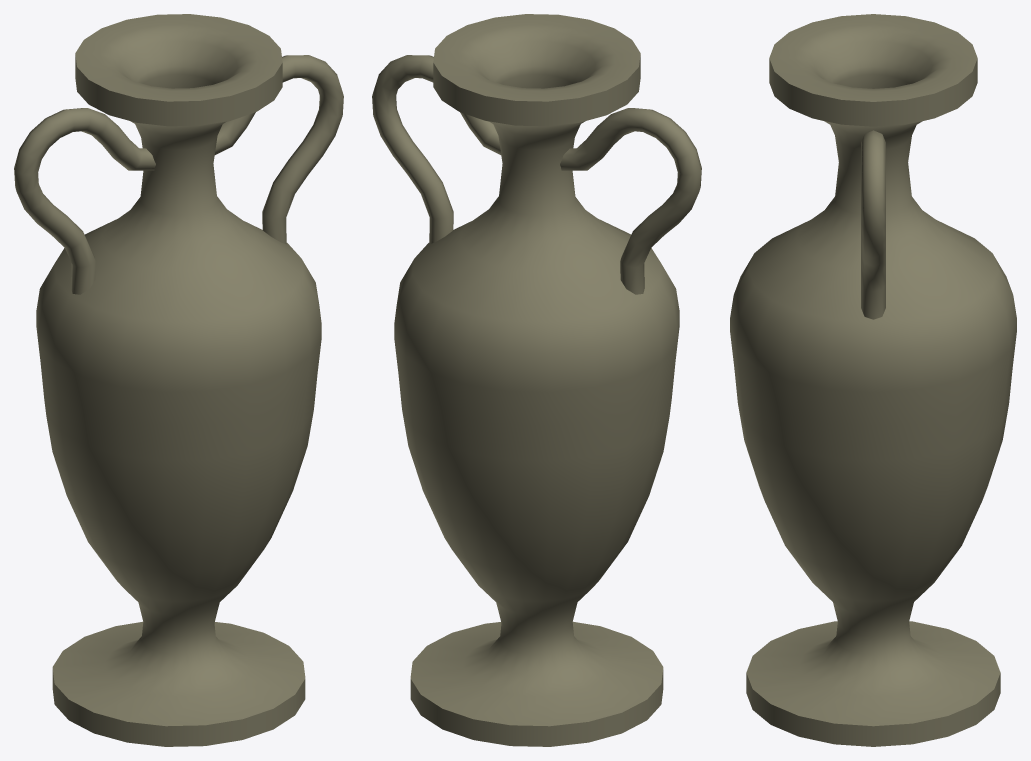
Rendered from WM_TallPot.fbx.
3 views of the same model, side by side, from view 1: azimuth 30°, elevation 25°; view 2: azimuth 150°, elevation 25°; view 3: azimuth 270°, elevation 25° (orthographic).
Parts seen in each view (by area): view 1: Cylinder.017; view 2: Cylinder.017; view 3: Cylinder.017.
Boxes of the visible parts, x1,y1,x2,y2 form: Cylinder.017: [14, 14, 343, 746]; Cylinder.017: [372, 14, 701, 746]; Cylinder.017: [730, 14, 1016, 746].
Size of the model in its own units: 2.67 by 4.95 by 2.03.
